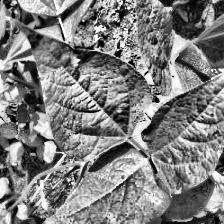ALS: (25, 19, 142, 158), (148, 44, 224, 193), (41, 148, 152, 224)
